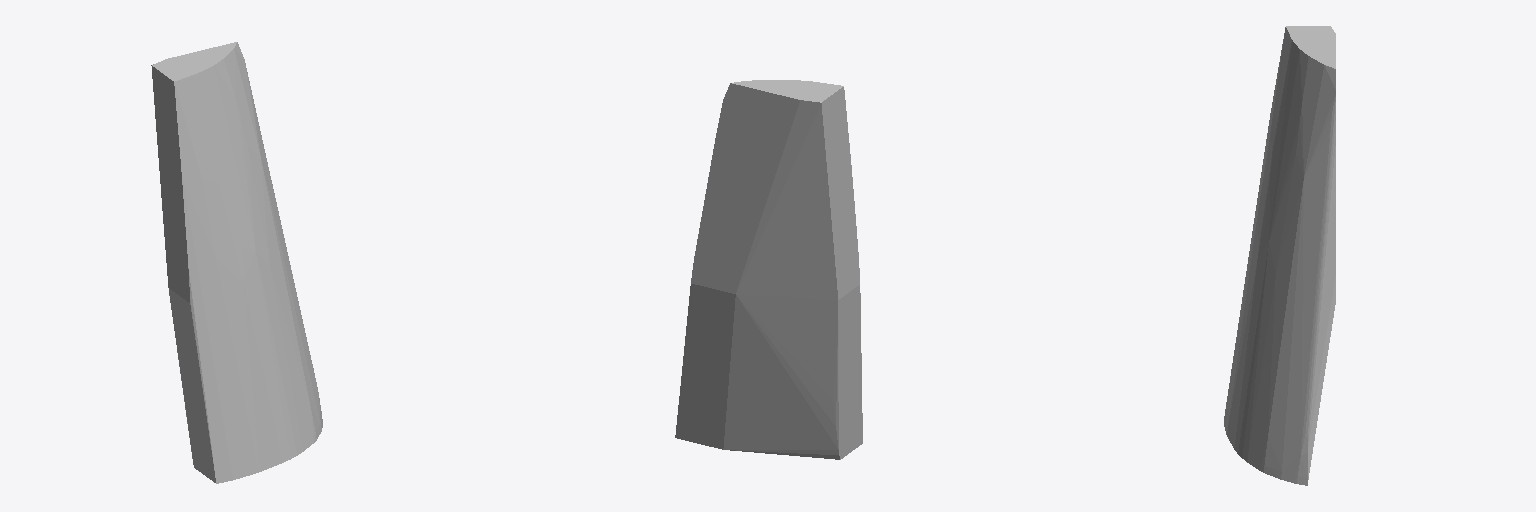
File: phantom-elastrat_collision_300.obj
The picture shows the model from 3 angles: view 1: azimuth 30°, elevation 25°; view 2: azimuth 150°, elevation 25°; view 3: azimuth 270°, elevation 25°; orthographic projection.
Bounding box in the file's own units: 0.0067 × 0.0154 × 0.0041.